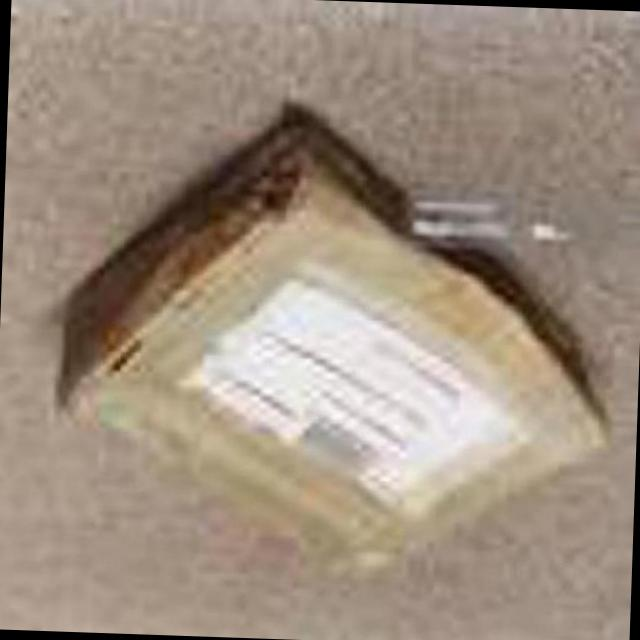box: (51, 117, 616, 598)
